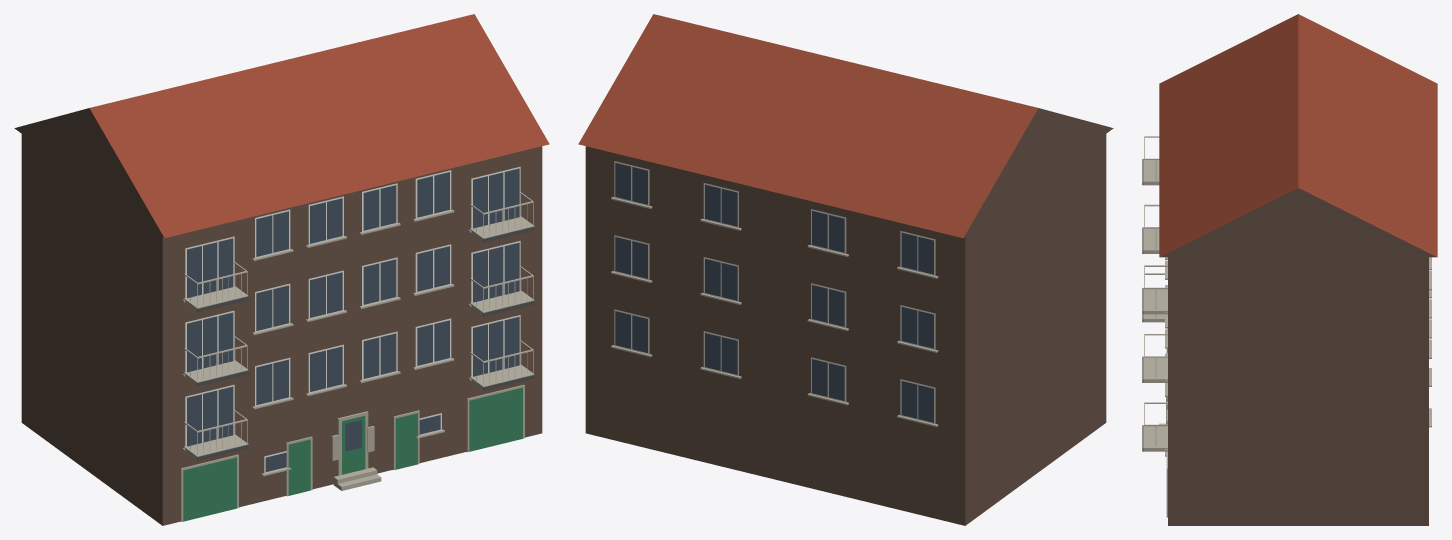
The model's file is nw-portiek-hof-garage-4st__brown-green-4w__4__gable__long__solid.glb.
3 renders of one model, left to right at view 1: azimuth 30°, elevation 25°; view 2: azimuth 150°, elevation 25°; view 3: azimuth 270°, elevation 25°, orthographic. The views are drawn at different scales.
Parts seen in each view (by area): view 1: nw-portiek-hof-garage-4st__brown-green-4w__4__gable__long__s; view 2: nw-portiek-hof-garage-4st__brown-green-4w__4__gable__long__s; view 3: nw-portiek-hof-garage-4st__brown-green-4w__4__gable__long__s.
Part boxes in pixels (<box>): nw-portiek-hof-garage-4st__brown-green-4w__4__gable__long__s: <box>14,14,549,525</box>; nw-portiek-hof-garage-4st__brown-green-4w__4__gable__long__s: <box>578,14,1113,525</box>; nw-portiek-hof-garage-4st__brown-green-4w__4__gable__long__s: <box>1142,14,1437,525</box>.
Bounding box in the file's own units: 16.52 × 15.05 × 11.86.
